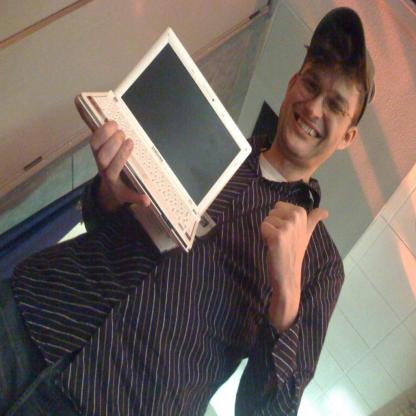board: (80, 27, 253, 254)
